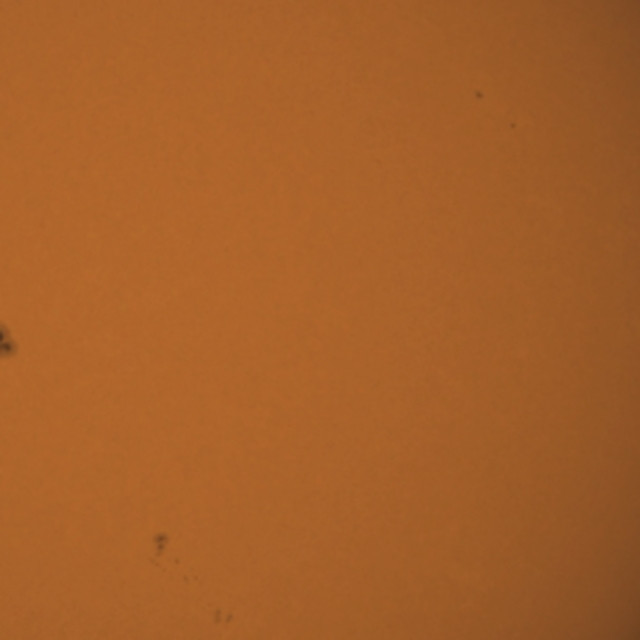sunspot: (148, 552, 197, 584), (150, 528, 181, 574), (0, 321, 16, 362), (211, 606, 235, 628), (151, 530, 171, 556), (182, 570, 200, 584), (473, 89, 485, 102), (508, 121, 518, 131)
